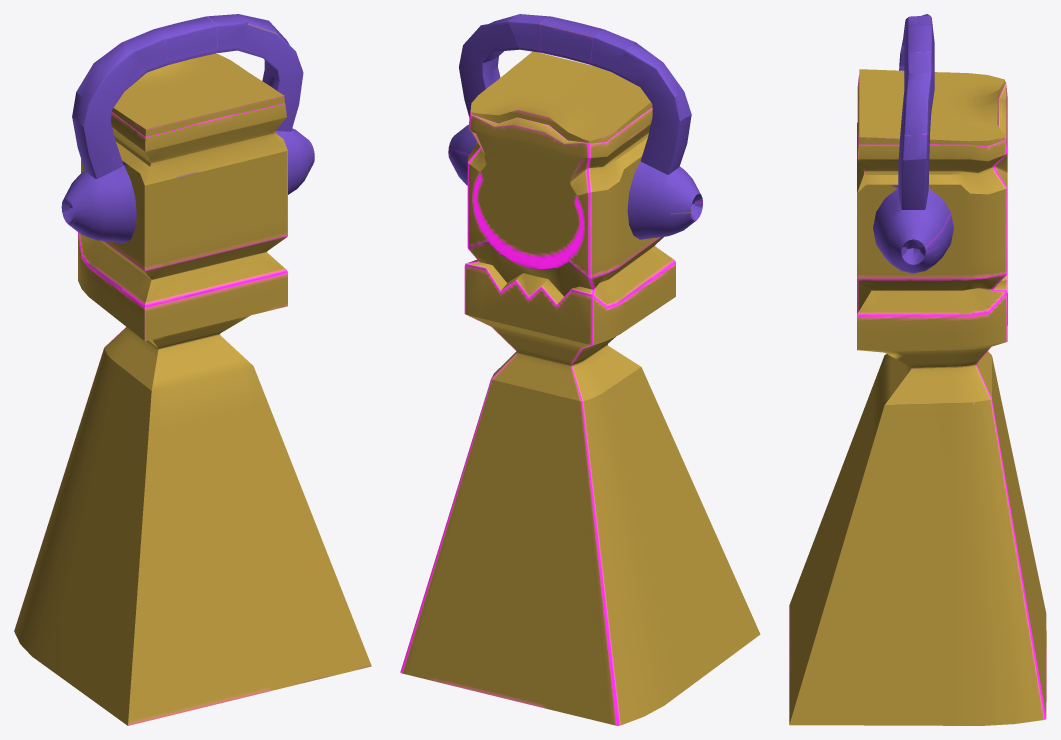
The model's file is MrDJ.fbx.
3 renders of one model, left to right at view 1: azimuth 30°, elevation 25°; view 2: azimuth 150°, elevation 25°; view 3: azimuth 270°, elevation 25°, orthographic.
Visible parts, largest first — view 1: MrDJ_Baked; view 2: MrDJ_Baked; view 3: MrDJ_Baked.
Part boxes in pixels (x1,y1,x2,y2): MrDJ_Baked: (14, 14, 371, 725); MrDJ_Baked: (400, 14, 760, 725); MrDJ_Baked: (789, 14, 1046, 725).
Size of the model in its own units: 525 by 1283 by 476.
Materials: 1 (1 with a texture image).
